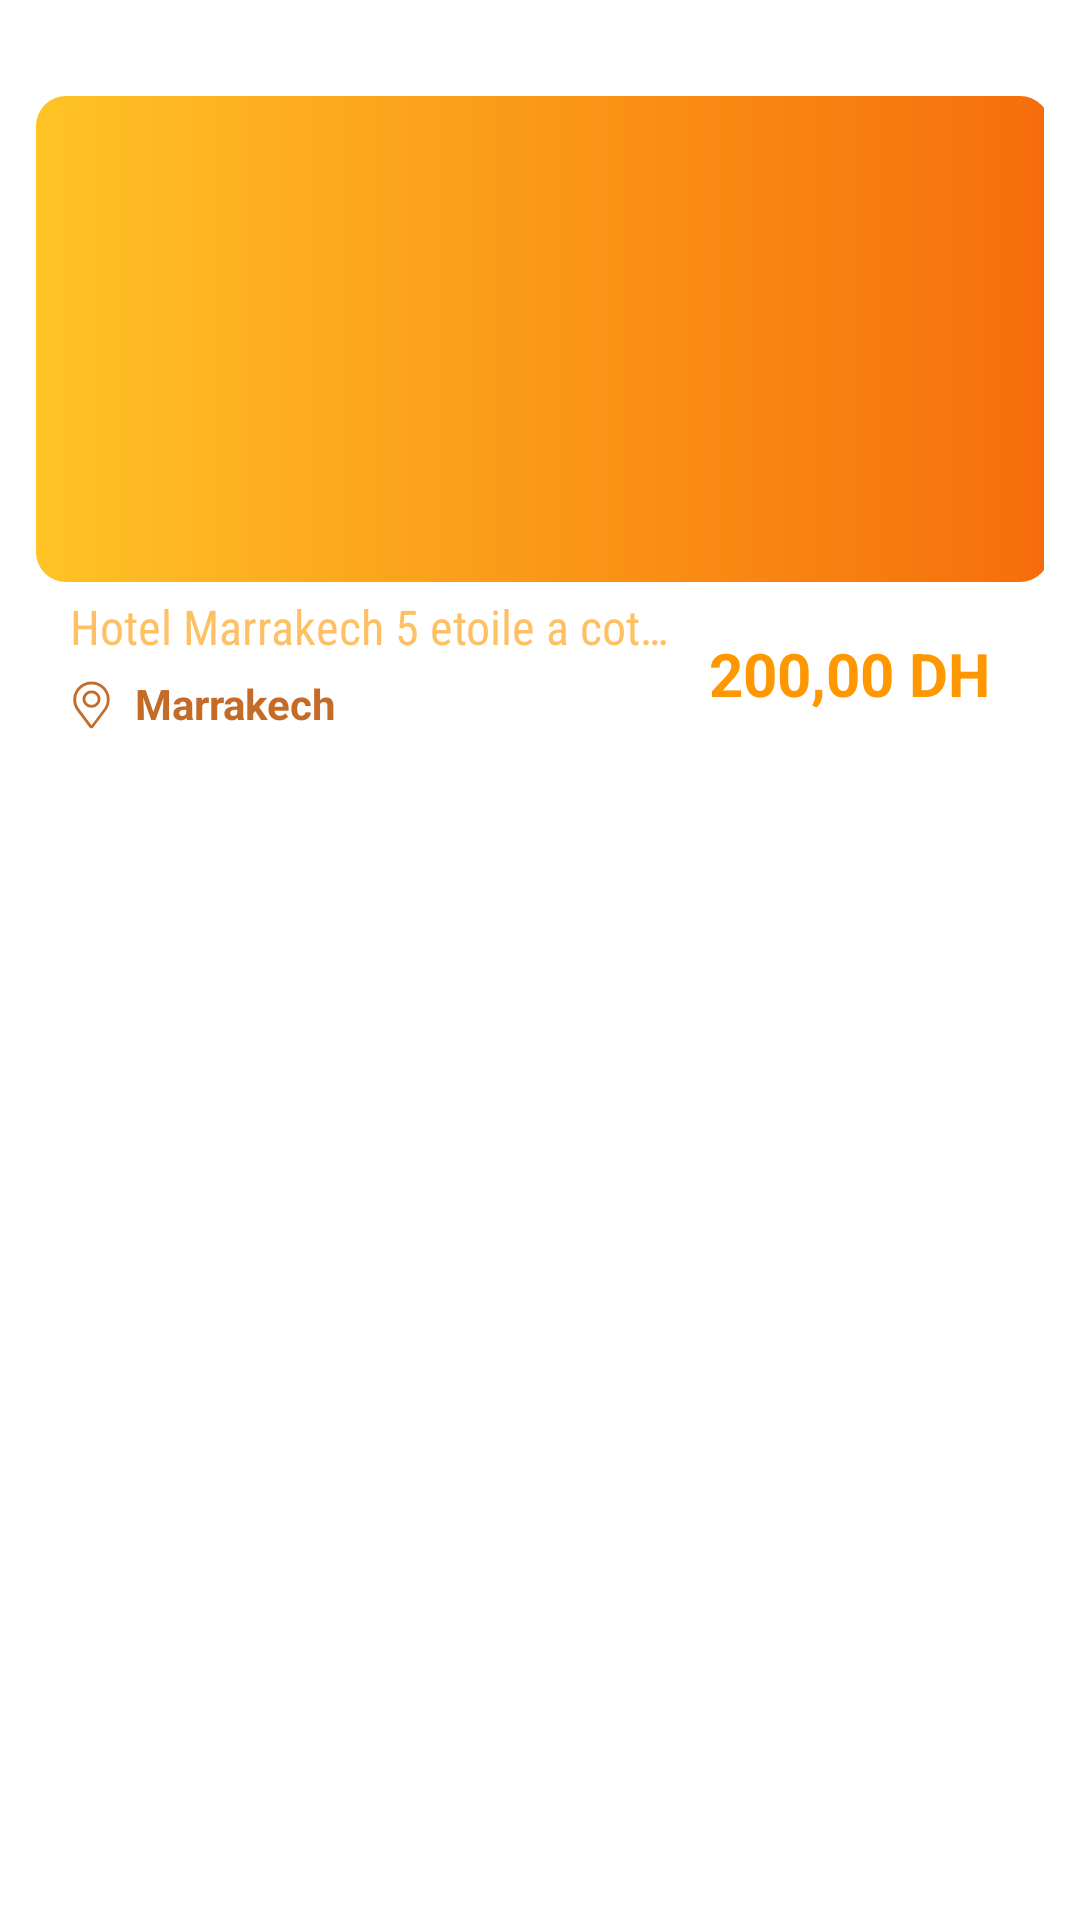

Screen size 1080 x 1920. Icon name, then its center in pixels as point (x, y):
localisation: point (91, 705)
